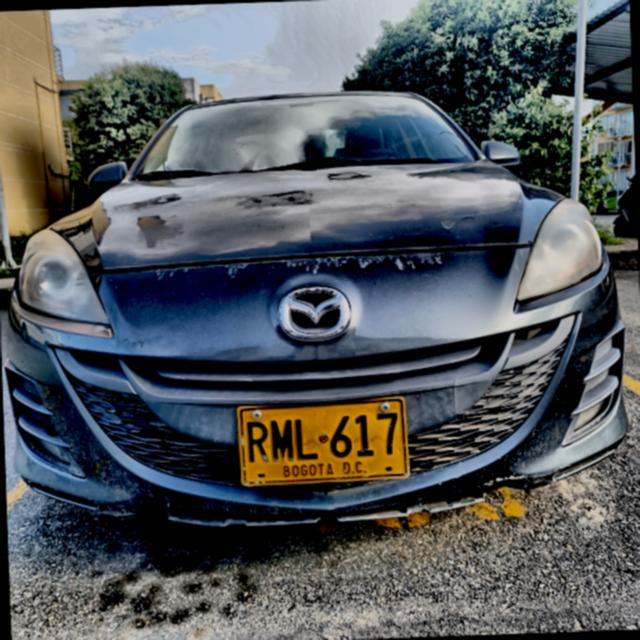plate: (239, 398, 407, 483)
